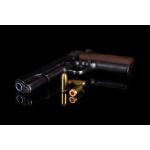Pistol: (16, 48, 136, 94)
